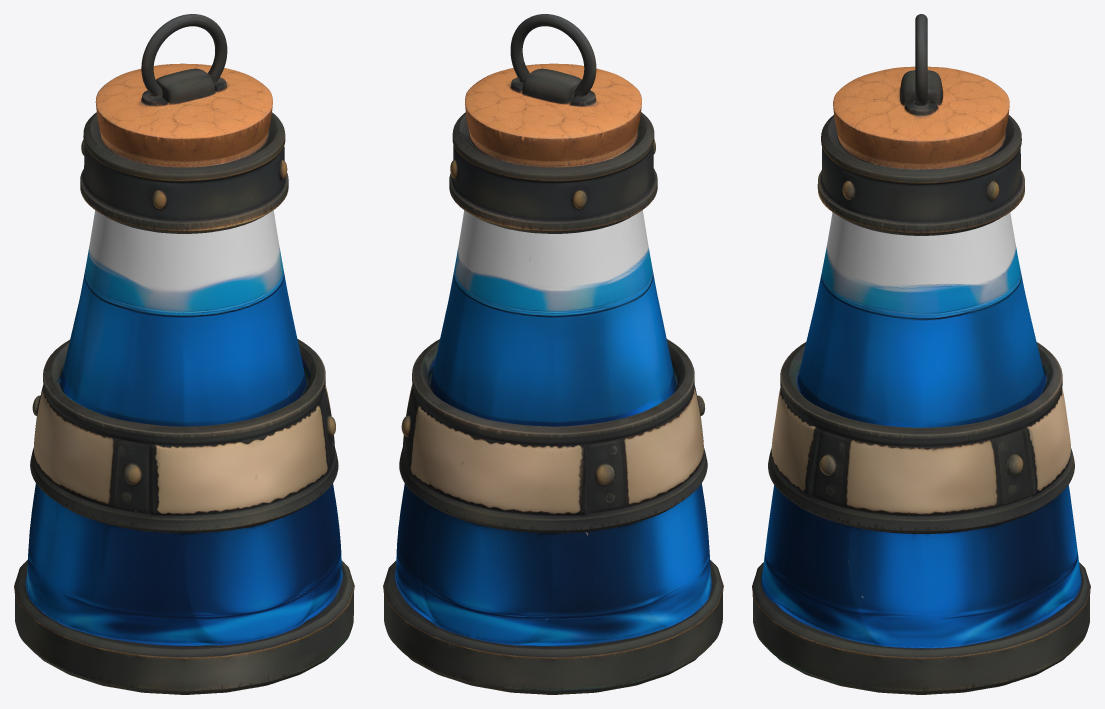
File: cleaned-model.glb
3 views of the same model, side by side, from view 1: azimuth 30°, elevation 25°; view 2: azimuth 150°, elevation 25°; view 3: azimuth 270°, elevation 25° (orthographic).
Parts seen in each view (by area): view 1: Mesh_0; view 2: Mesh_0; view 3: Mesh_0.
Part boxes in pixels (left/top/right/bottom): Mesh_0: left=14, top=14, right=354, bottom=694; Mesh_0: left=383, top=14, right=723, bottom=694; Mesh_0: left=752, top=14, right=1090, bottom=694.
Bounding box in the file's own units: 0.141 × 0.28 × 0.141.
Materials: 1 (1 with a texture image).
